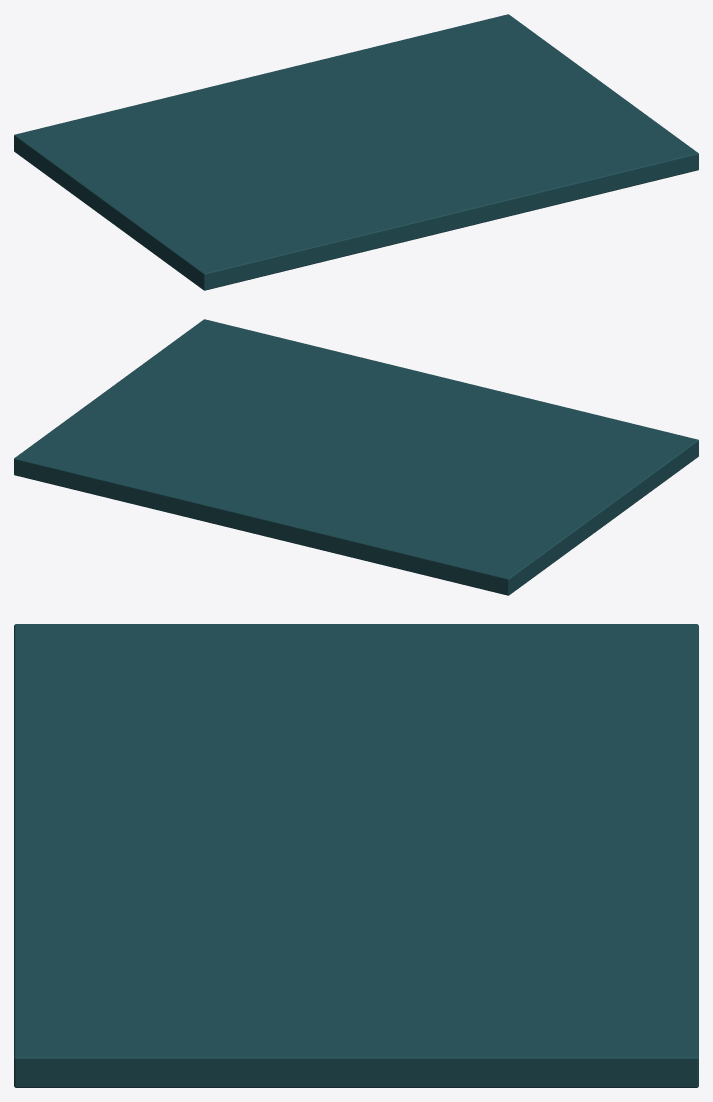
Rendered from roof.glb.
The picture shows the model from 3 angles, top to bottom: view 1: azimuth 30°, elevation 25°; view 2: azimuth 150°, elevation 25°; view 3: azimuth 270°, elevation 25°; orthographic projection. The views are drawn at different scales.
Visible parts, largest first — view 1: roof; view 2: roof; view 3: roof.
Boxes of the visible parts, x1,y1,x2,y2 form: roof: (14, 14, 698, 290); roof: (14, 319, 698, 595); roof: (14, 624, 698, 1087).
Bounding box in the file's own units: 12 × 0.4 × 8.
